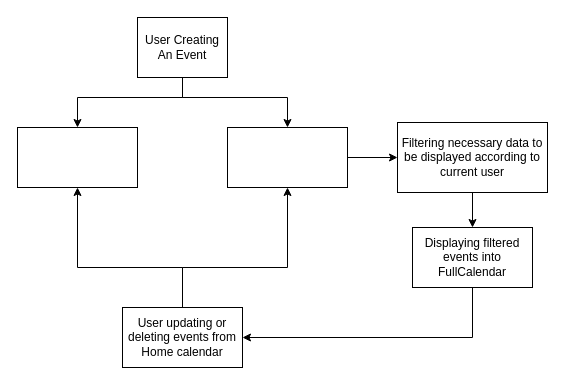
Some shapes in this 565 by 385 pixel diagram are drawn without their labels. Here are the shapes that lost their labels. From the top down, the centre of each, then its label:
[77,157]: Admin's Google Calendar
[287,157]: Local Calendar DB
